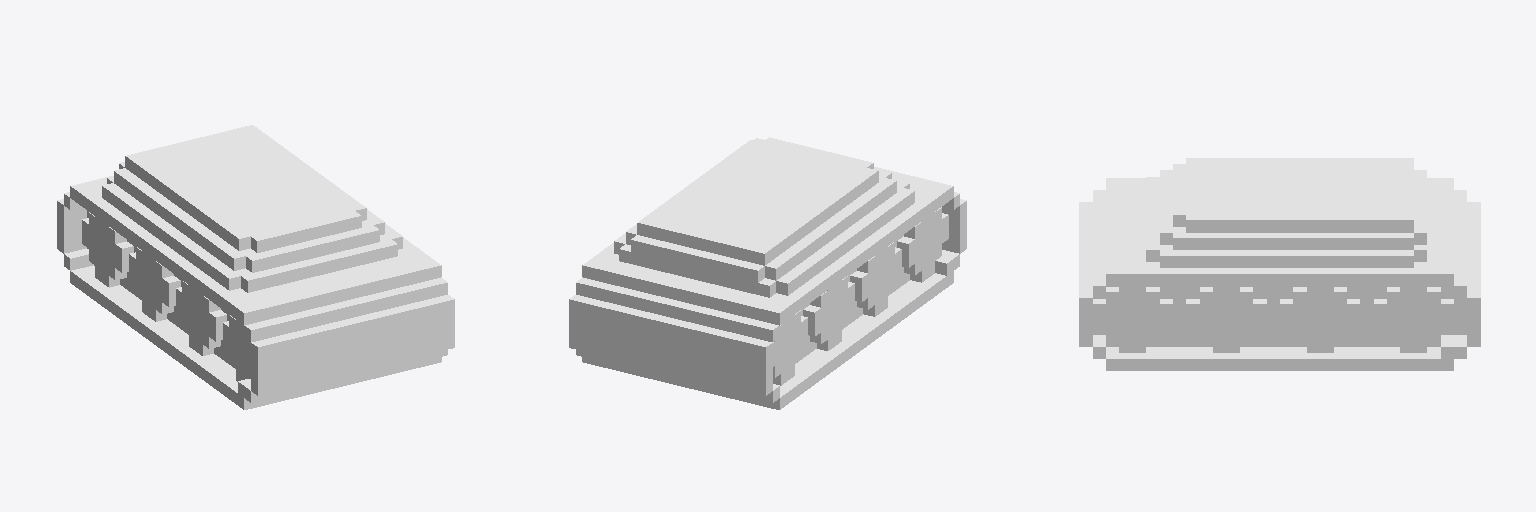
Rendered from tanquinho_base_verde.obj.
The picture shows the model from 3 angles: view 1: azimuth 30°, elevation 25°; view 2: azimuth 150°, elevation 25°; view 3: azimuth 270°, elevation 25°; orthographic projection.
Parts seen in each view (by area): view 1: object 1; view 2: object 1; view 3: object 1.
Part boxes in pixels (bbox=[...]): object 1: bbox=[57, 125, 454, 409]; object 1: bbox=[569, 137, 966, 409]; object 1: bbox=[1079, 158, 1480, 370].
Size of the model in its own units: 1.7 by 1.1 by 3.